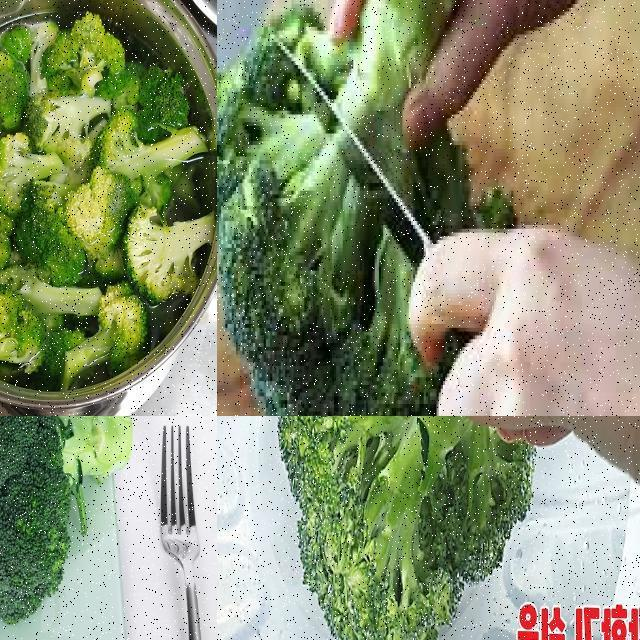broccoli: (217, 0, 475, 415), (275, 416, 554, 639), (0, 416, 135, 632), (86, 116, 205, 217), (60, 282, 157, 396), (119, 202, 216, 302), (0, 134, 64, 214), (0, 283, 48, 369), (0, 54, 37, 131)
